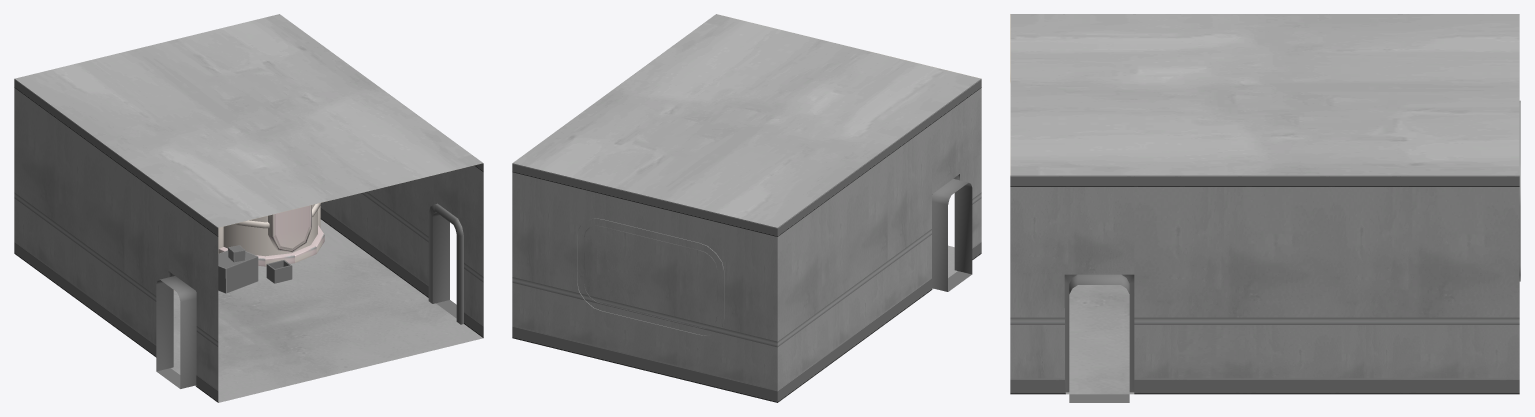
The model's file is MSH_QuestRobCo_L1_R1_optimized.fbx.
3 views of the same model, side by side, from view 1: azimuth 30°, elevation 25°; view 2: azimuth 150°, elevation 25°; view 3: azimuth 270°, elevation 25° (orthographic). The views are drawn at different scales.
Parts seen in each view (by area): view 1: lightmap3, lightmap12, lightmap8, lightmap0; view 2: lightmap12, lightmap3, lightmap0; view 3: lightmap12, lightmap3, lightmap8, lightmap0.
Part boxes in pixels (box(x1,y1,x2,y2)): lightmap3: box(15, 14, 482, 293); lightmap12: box(14, 79, 483, 402); lightmap8: box(171, 219, 482, 402); lightmap0: box(156, 203, 463, 388); lightmap12: box(512, 79, 981, 402); lightmap3: box(513, 14, 980, 227); lightmap0: box(577, 174, 972, 335); lightmap12: box(1010, 175, 1519, 394); lightmap3: box(1010, 14, 1519, 175); lightmap8: box(1065, 285, 1134, 394); lightmap0: box(1064, 100, 1520, 402).
Bounding box in the file's own units: 10.3 × 5.87 × 12.4.
1 material, 1 textured.
